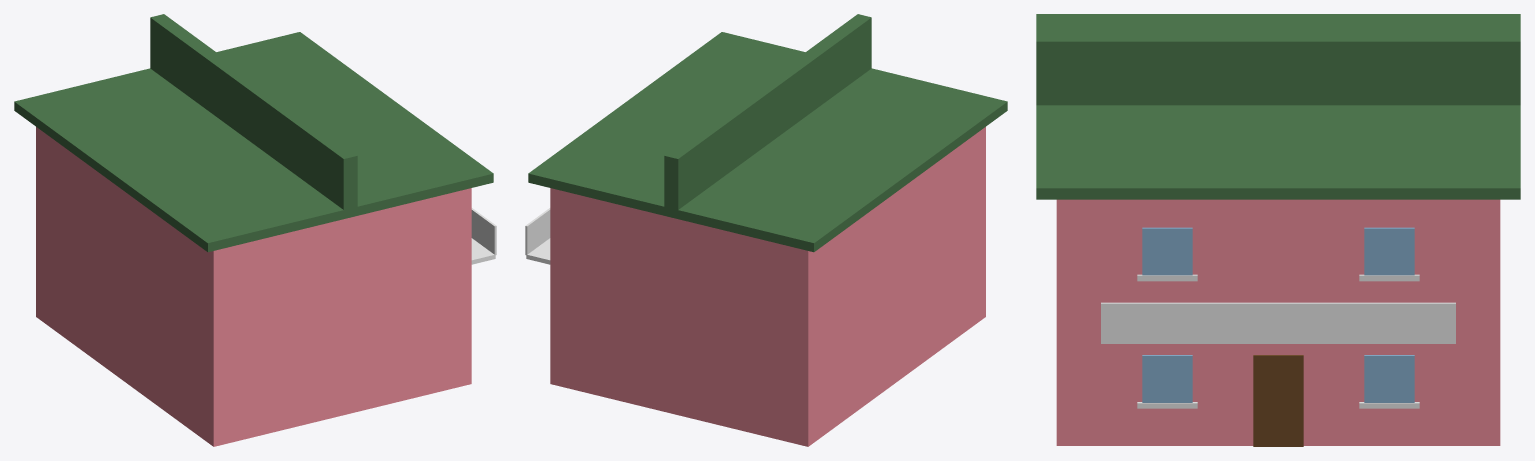
The model's file is casa_playa_1.obj.
3 renders of one model, left to right at view 1: azimuth 30°, elevation 25°; view 2: azimuth 150°, elevation 25°; view 3: azimuth 270°, elevation 25°, orthographic. The views are drawn at different scales.
Parts seen in each view (by area): view 1: casa_playa_1; view 2: casa_playa_1; view 3: casa_playa_1.
Boxes of the visible parts, x1,y1,x2,y2 form: casa_playa_1: (14, 14, 496, 446); casa_playa_1: (525, 14, 1007, 446); casa_playa_1: (1036, 14, 1520, 446).
Size of the model in its own units: 9.05 by 7.25 by 9.64.
